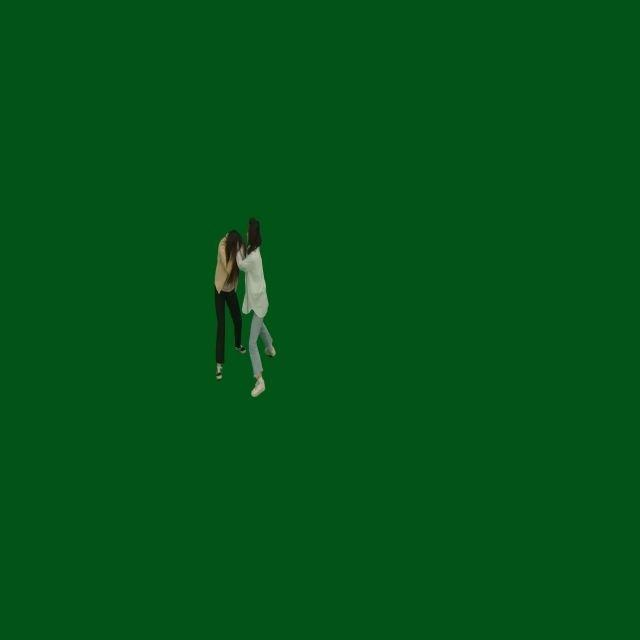fight: (211, 216, 277, 398)
